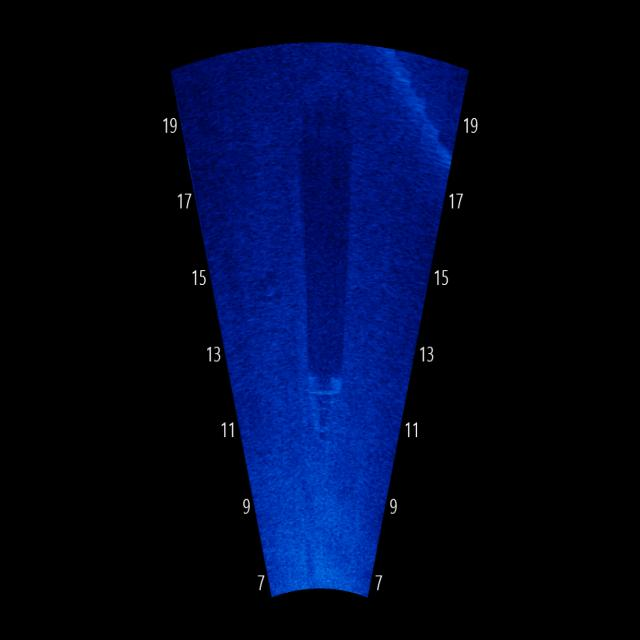triangle: (302, 362, 348, 456)
